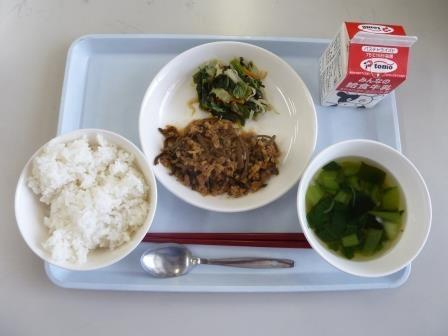Milk: (313, 24, 416, 115)
Rice: (8, 133, 148, 271)
Soups: (302, 140, 431, 277)
cooked food based on meat: (154, 117, 282, 198)
salad with sauce: (192, 56, 274, 125)
